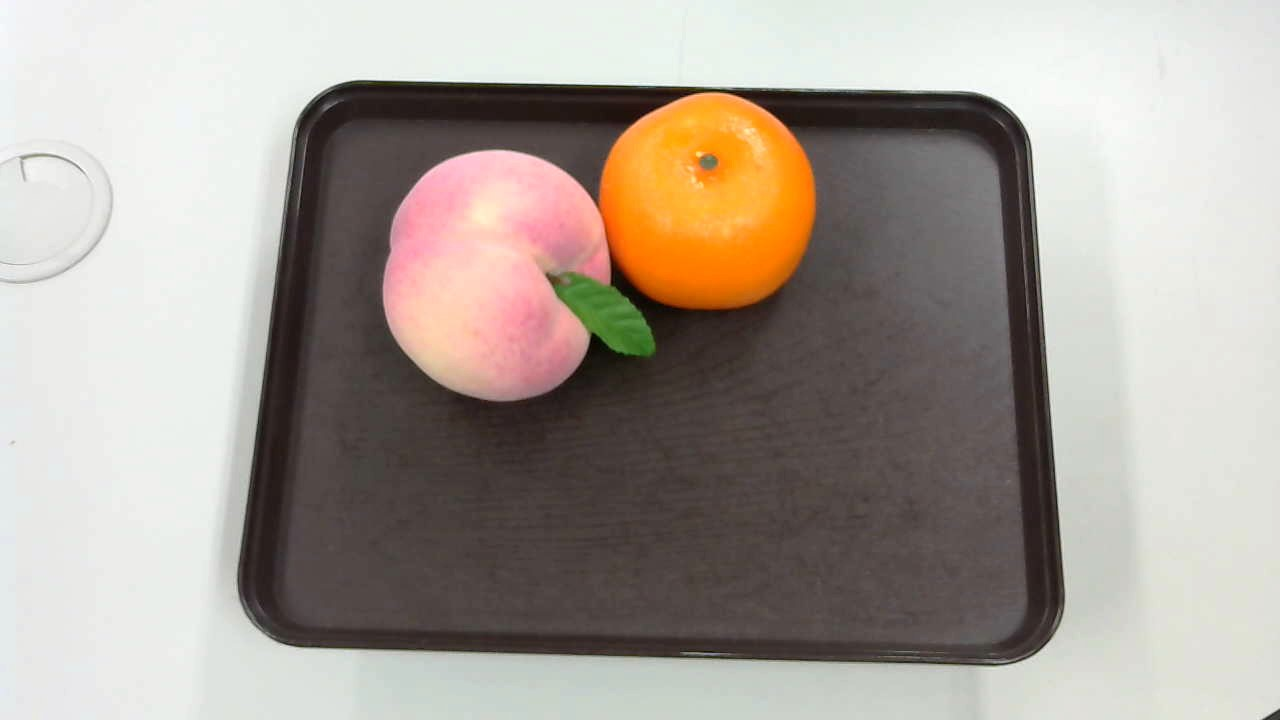orange: (593, 91, 819, 307)
peach: (375, 148, 658, 405)
